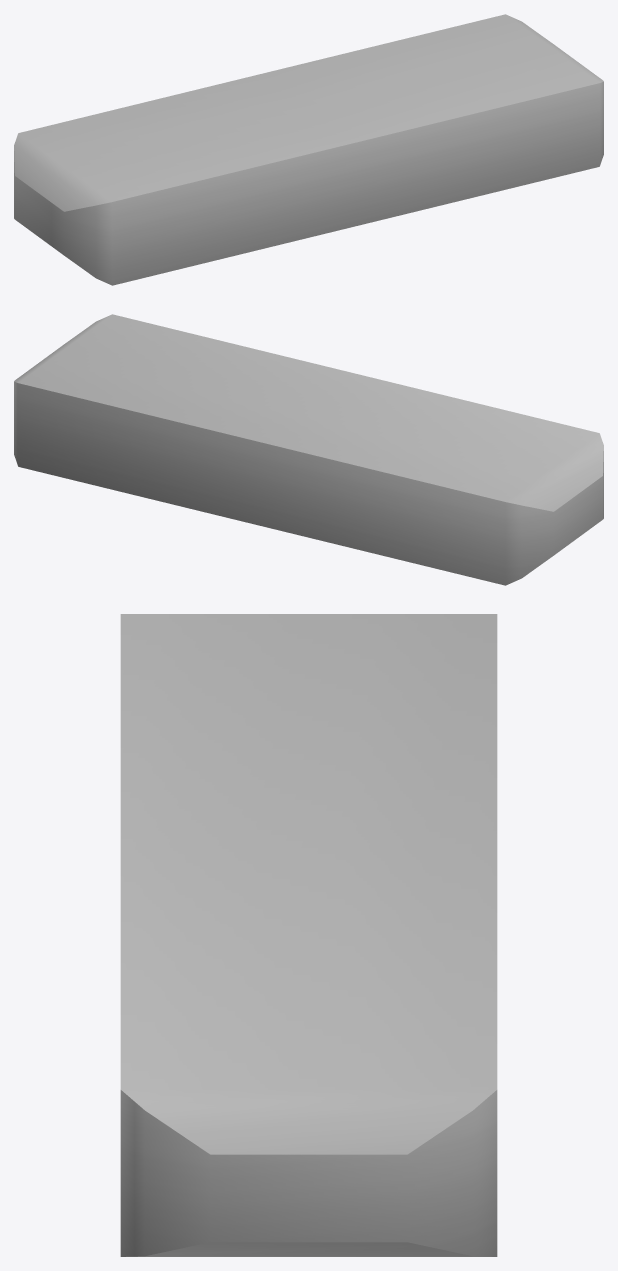
Rendered from stone_guard_060.glb.
3 renders of one model, top to bottom at view 1: azimuth 30°, elevation 25°; view 2: azimuth 150°, elevation 25°; view 3: azimuth 270°, elevation 25°, orthographic. The views are drawn at different scales.
Parts seen in each view (by area): view 1: stone_guard.060; view 2: stone_guard.060; view 3: stone_guard.060.
Part boxes in pixels (x1,y1,x2,y2): stone_guard.060: (14,14,603,285); stone_guard.060: (14,314,603,585); stone_guard.060: (120,614,497,1256).
Bounding box in the file's own units: 6.61 × 0.9809 × 2.
Materials: 1 (1 with a texture image).
